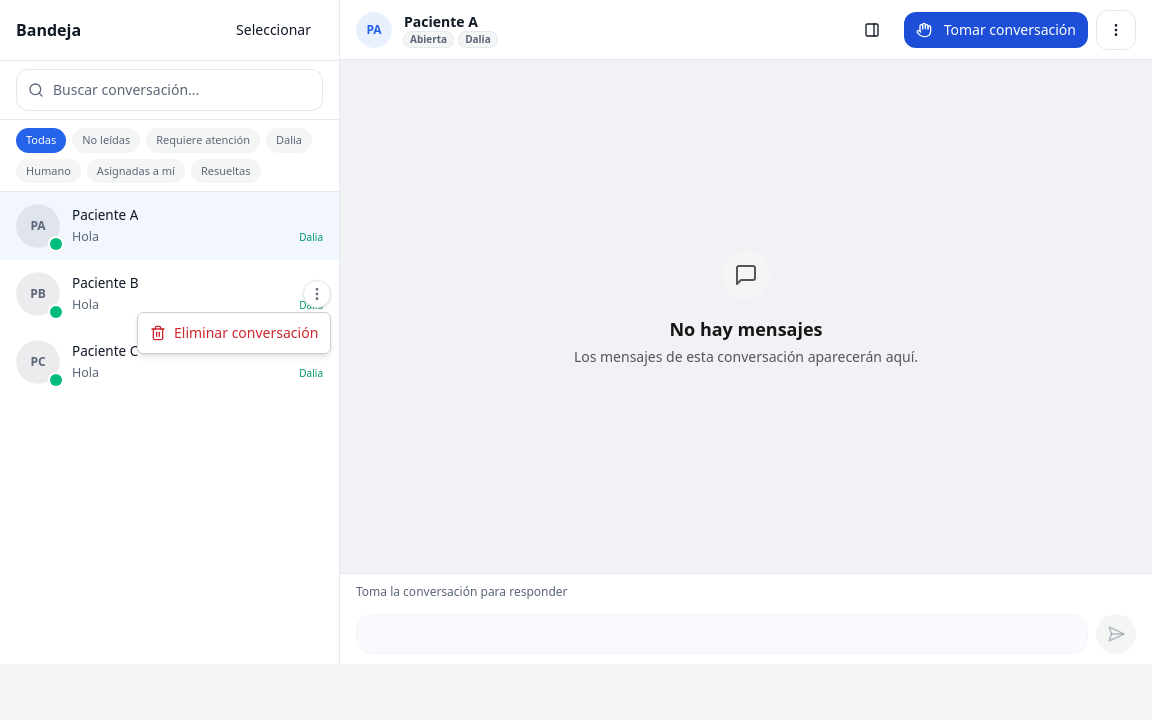
Test: Eliminar conversaciones en la Bandeja › cancelar no elimina nada
Earlier steps of the test are not shown.
Step 1. Click the menu item "Eliminar conversación" → (234,332), box [150,323,318,342]
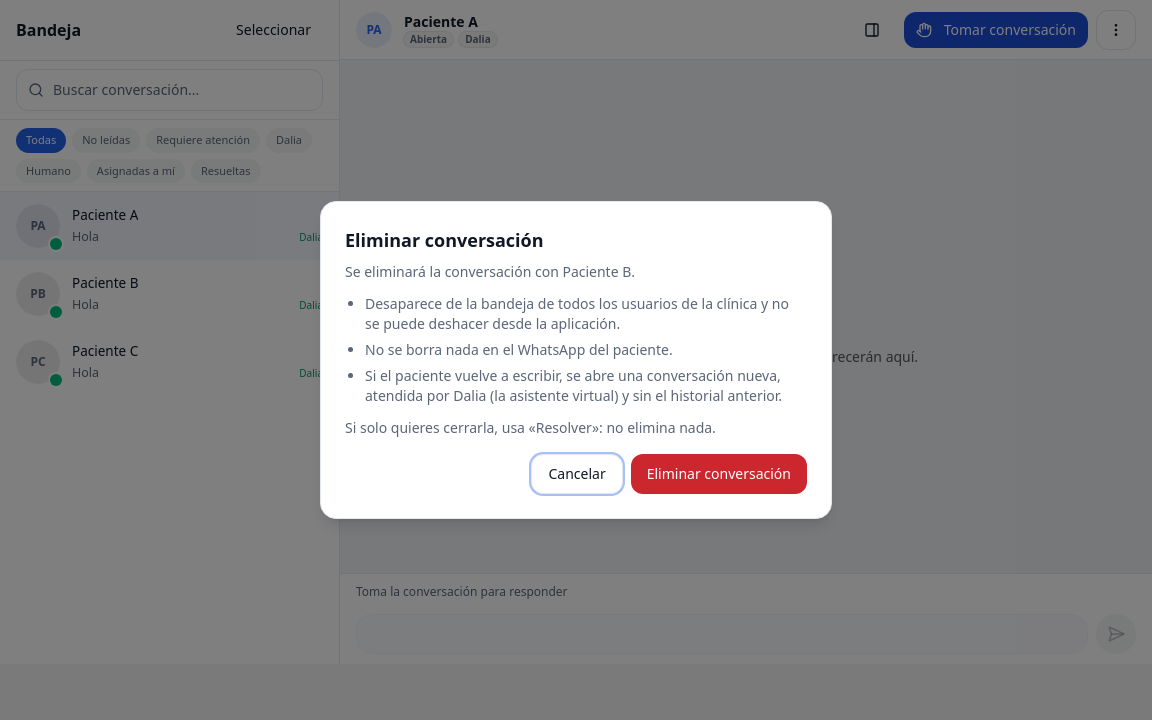
Step 2. Click the button "Cancelar" → (577,474), box [532,454,623,494]
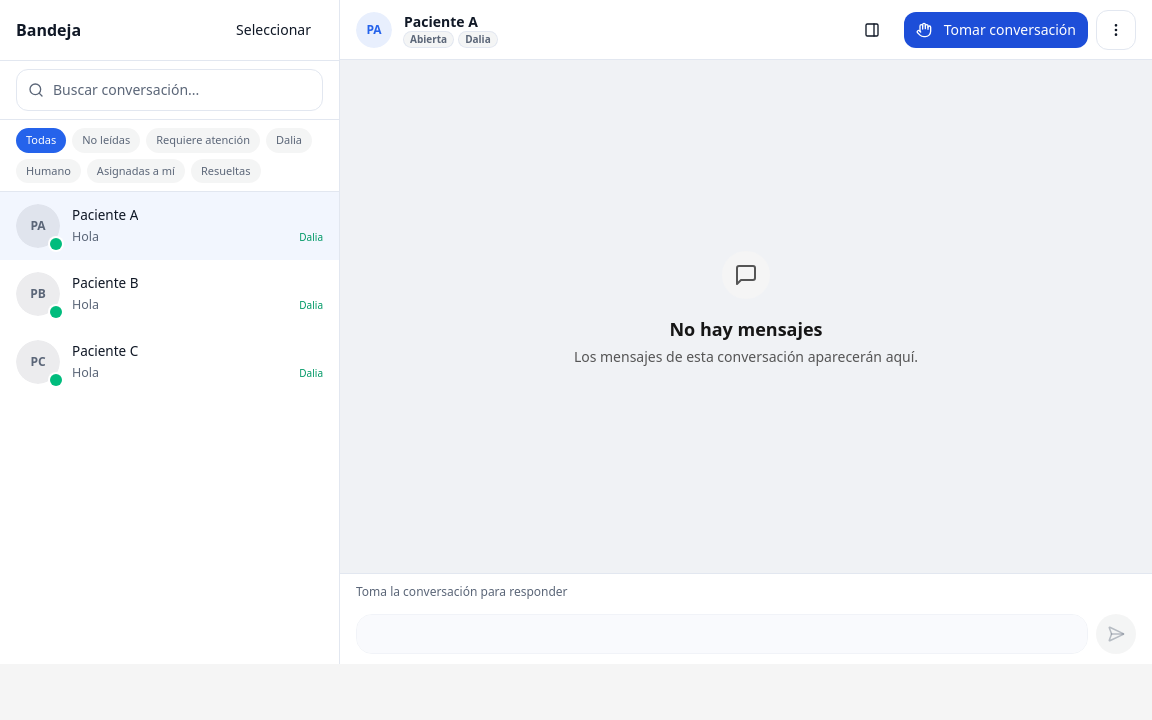
Expected: the dialog is gone
